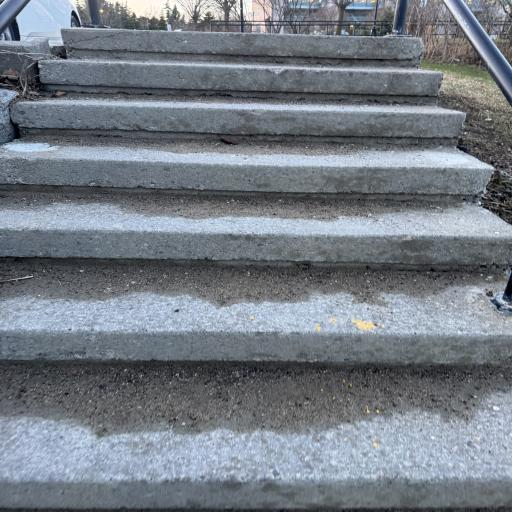Stairs: (0, 28, 512, 510)
